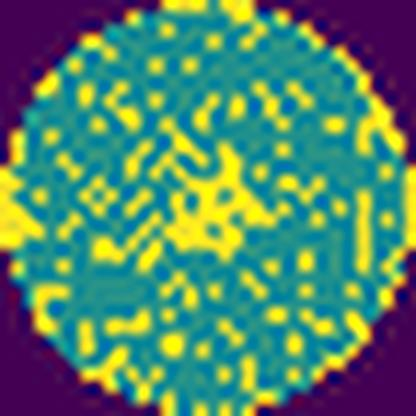Center: (166, 145, 267, 253)
